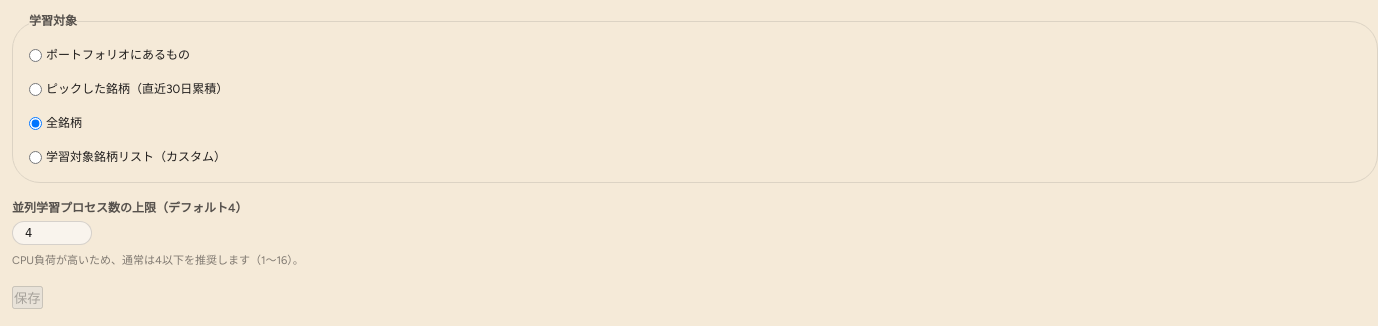
Test case: TrainingTargetPanel › 並列数の上限を超えた値は上限にクランプする
Replace the text in the number field labelled "並列学習プロセス数の上限（デフォルト4）" with "999" at coordinates (52, 233), box [12,221,92,245]
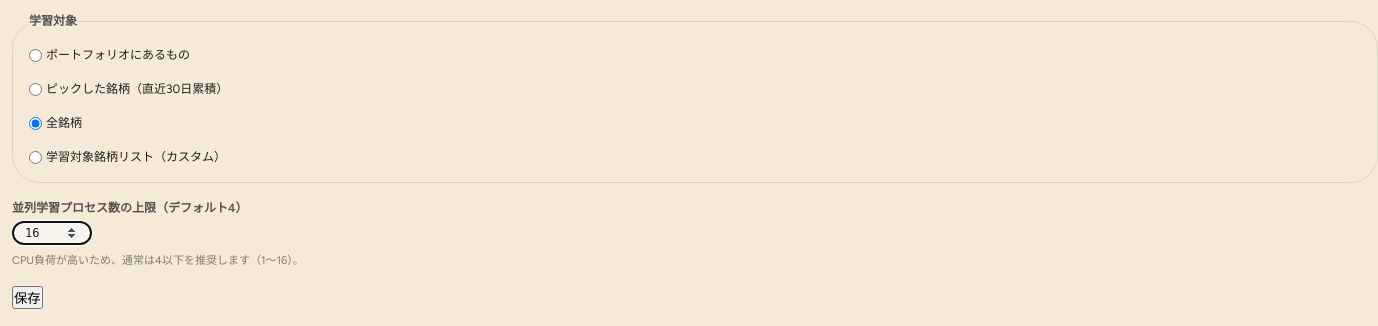
Now the number field labelled "並列学習プロセス数の上限（デフォルト4）" holds "16", box [12,221,92,245]
